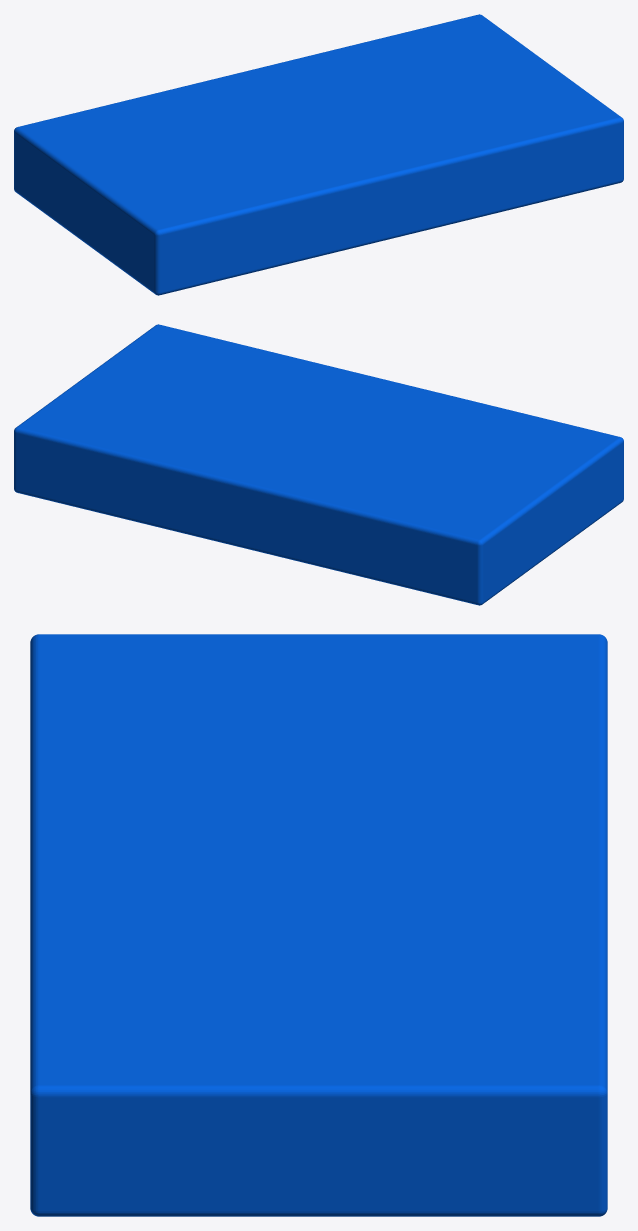
The model's file is spawnBlock15x8.blend.glb.
3 views of the same model, one above another, from view 1: azimuth 30°, elevation 25°; view 2: azimuth 150°, elevation 25°; view 3: azimuth 270°, elevation 25° (orthographic). The views are drawn at different scales.
Parts seen in each view (by area): view 1: Cube; view 2: Cube; view 3: Cube.
Boxes of the visible parts, x1=… form: Cube: x1=14, y1=14, x2=623, y2=295; Cube: x1=14, y1=324, x2=623, y2=605; Cube: x1=30, y1=634, x2=607, y2=1216.
Bounding box in the file's own units: 15 × 2 × 8.
